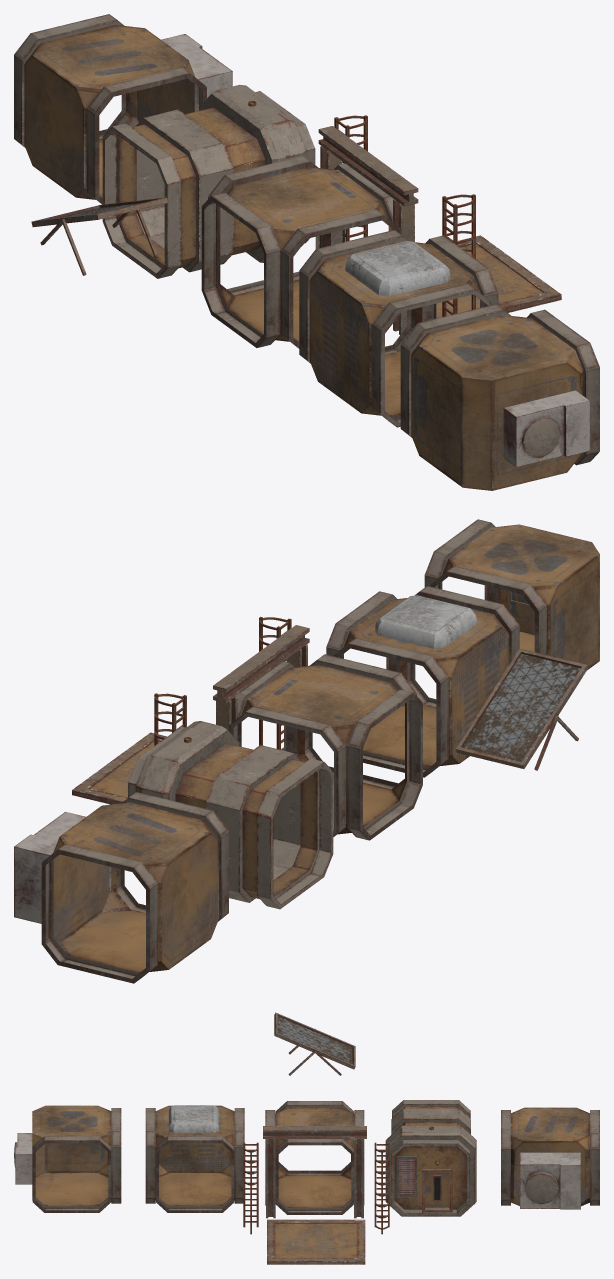
File: stacks.glb
3 renders of one model, top to bottom at view 1: azimuth 30°, elevation 25°; view 2: azimuth 150°, elevation 25°; view 3: azimuth 270°, elevation 25°, orthographic. The views are drawn at different scales.
Visible parts, largest first — view 1: R, I, O, Empty, T, floor, solarpanel, ladder in, ladder; view 2: Empty, I, O, T, R, solarpanel, floor, ladder, ladder in; view 3: T, R, Empty, I, O, floor, solarpanel, ladder in, ladder.
Part boxes in pixels (box(x1,y1,x2,y2)): R: box(400, 304, 599, 490); I: box(102, 84, 315, 278); O: box(201, 126, 418, 348); Empty: box(14, 14, 232, 204); T: box(299, 230, 498, 427); floor: box(436, 235, 561, 318); solarpanel: box(31, 197, 167, 275); ladder in: box(442, 194, 475, 316); ladder: box(334, 115, 367, 241); Empty: box(14, 792, 228, 983); I: box(128, 721, 333, 909); O: box(213, 625, 422, 840); T: box(326, 586, 519, 777); R: box(424, 519, 599, 670); solarpanel: box(456, 648, 587, 770); floor: box(72, 732, 166, 804); ladder: box(154, 693, 186, 745); ladder in: box(259, 616, 291, 750); T: box(145, 1105, 244, 1212); R: box(14, 1105, 121, 1212); Empty: box(501, 1107, 599, 1209); I: box(385, 1100, 476, 1216); O: box(263, 1101, 366, 1218); floor: box(267, 1219, 365, 1264); solarpanel: box(274, 1012, 355, 1075); ladder in: box(243, 1142, 258, 1234); ladder: box(374, 1142, 389, 1234).
Size of the model in its own units: 66.73 by 26.63 by 121.
3 materials, 3 textured.
